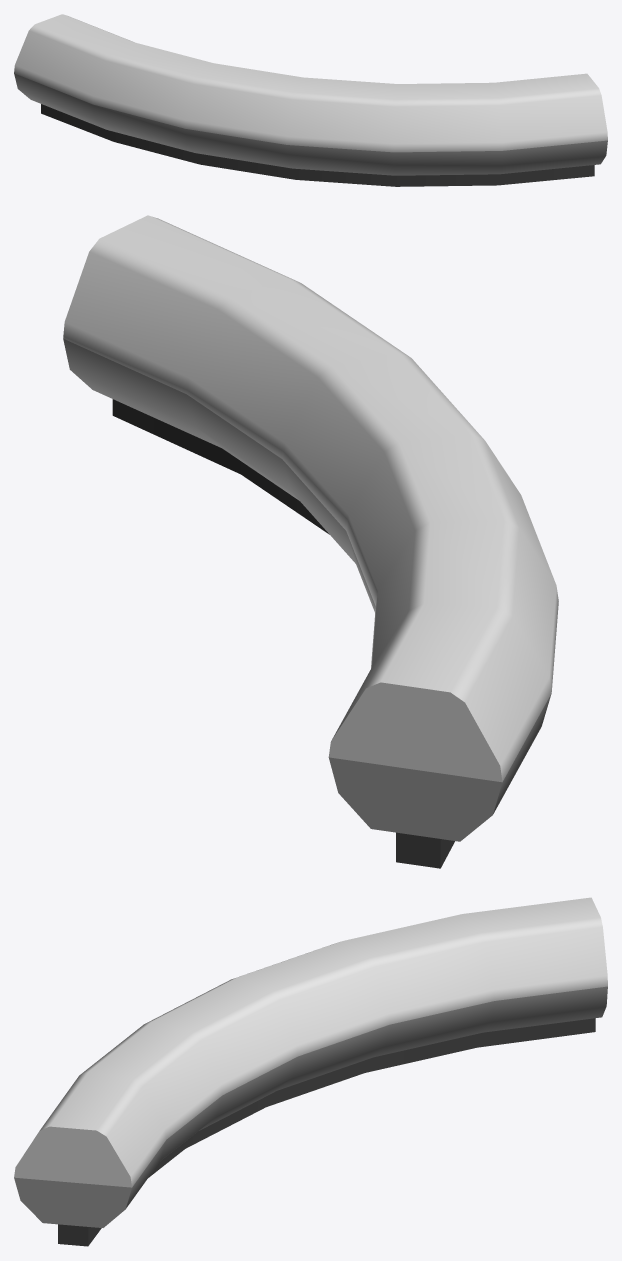
File: space_station_023.fbx
The picture shows the model from 3 angles, top to bottom: view 1: azimuth 30°, elevation 25°; view 2: azimuth 150°, elevation 25°; view 3: azimuth 270°, elevation 25°; orthographic projection. The views are drawn at different scales.
Visible parts, largest first — view 1: space_station_023; view 2: space_station_023; view 3: space_station_023.
Boxes of the visible parts, x1,y1,x2,y2 form: space_station_023: [14, 14, 607, 186]; space_station_023: [63, 215, 558, 868]; space_station_023: [14, 897, 607, 1246].
Bounding box in the file's own units: 2486 × 2486 × 546.
